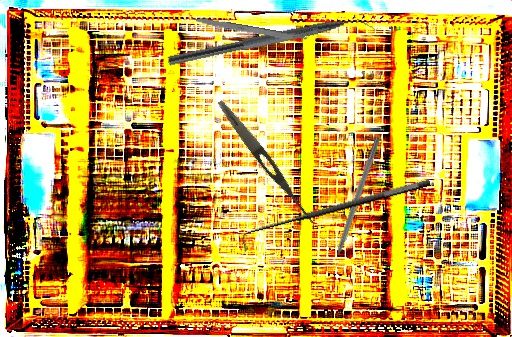Chopper: (167, 8, 379, 80)
Dressing Forceps: (213, 97, 320, 227)
Hook Surgical: (237, 176, 435, 253), (327, 136, 382, 272)
Scalpel Handle: (190, 15, 310, 45)
